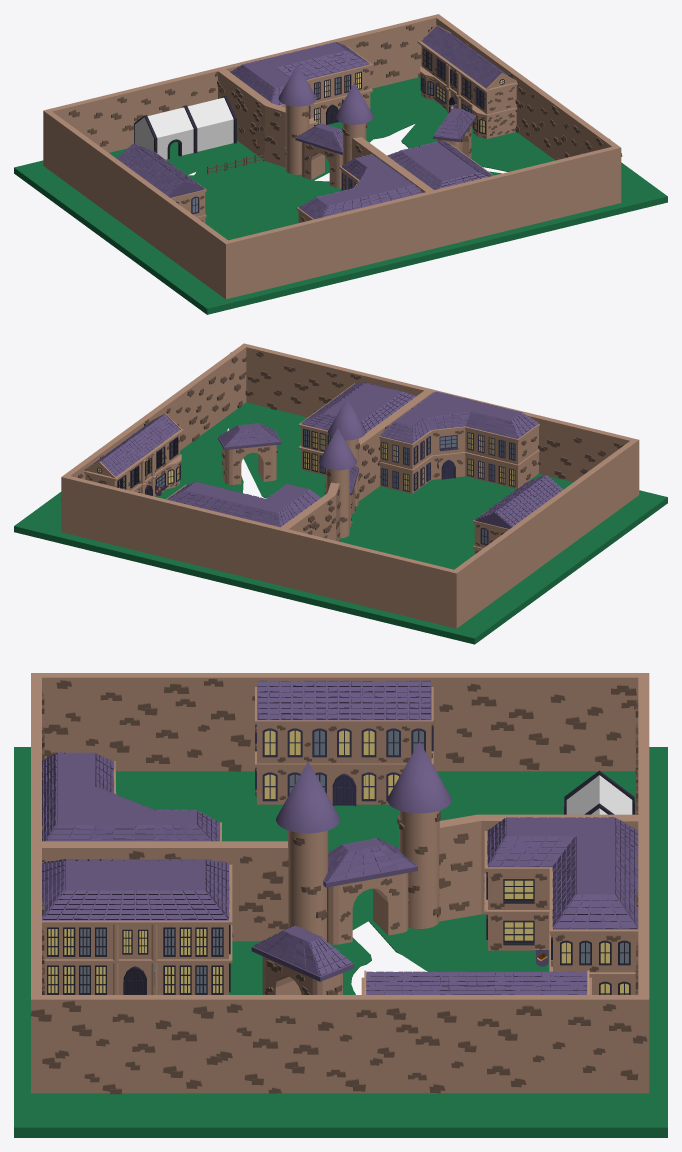
Rendered from MainBuild.fbx.
3 renders of one model, top to bottom at view 1: azimuth 30°, elevation 25°; view 2: azimuth 150°, elevation 25°; view 3: azimuth 270°, elevation 25°, orthographic. The views are drawn at different scales.
Parts seen in each view (by area): view 1: Mauern, Gras, Hauptgebäude, Bibliothek, Lerngebäude, Glas, Wohnhaus, Zeremoniehalle, Turm2, Bogen, Turm1, Bogen.001 (+1 smaller); view 2: Mauern, Gras, Lerngebäude, Hauptgebäude, Wohnhaus, Bibliothek, Zeremoniehalle, Bogen.001, Turm2, Turm1; view 3: Mauern, Gras, Wohnhaus, Bibliothek, Zeremoniehalle, Lerngebäude, Bogen, Turm2, Turm1, Hauptgebäude, Bogen.001, Glas.
Part boxes in pixels (x1,y1,x2,y2): Mauern: [43, 14, 622, 299]; Gras: [14, 77, 667, 314]; Hauptgebäude: [417, 25, 517, 138]; Bibliothek: [230, 42, 372, 128]; Lerngebäude: [296, 154, 422, 222]; Glas: [134, 97, 233, 159]; Wohnhaus: [387, 141, 493, 189]; Zeremoniehalle: [116, 143, 206, 223]; Turm2: [278, 64, 316, 174]; Bogen: [295, 123, 343, 188]; Turm1: [335, 82, 373, 164]; Bogen.001: [433, 108, 476, 158]; Mauern: [60, 343, 639, 628]; Gras: [14, 402, 667, 644]; Lerngebäude: [379, 391, 539, 493]; Hauptgebäude: [84, 413, 183, 496]; Wohnhaus: [298, 382, 415, 475]; Bibliothek: [166, 482, 320, 527]; Zeremoniehalle: [473, 475, 563, 554]; Bogen.001: [218, 423, 281, 484]; Turm2: [319, 428, 356, 538]; Turm1: [328, 398, 365, 506]; Mauern: [31, 673, 649, 1094]; Gras: [14, 747, 667, 1137]; Wohnhaus: [42, 859, 232, 994]; Bibliothek: [484, 817, 638, 994]; Zeremoniehalle: [255, 680, 433, 806]; Lerngebäude: [42, 752, 221, 841]; Bogen: [323, 838, 417, 944]; Turm2: [387, 742, 451, 928]; Turm1: [276, 761, 340, 940]; Hauptgebäude: [361, 970, 591, 994]; Bogen.001: [251, 926, 354, 994]; Glas: [566, 775, 632, 814].
Size of the model in its own units: 17189 by 3986 by 12480.
